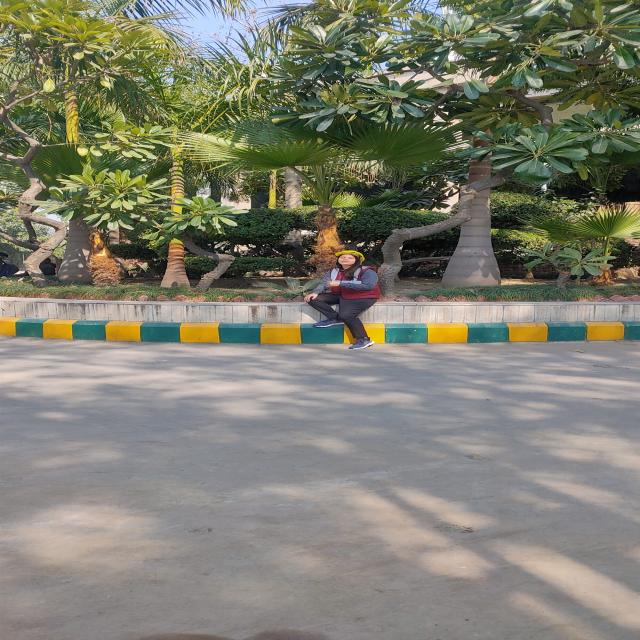safe: (304, 250, 378, 348)
